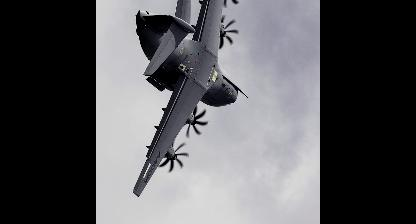A400M: (133, 0, 250, 196)
